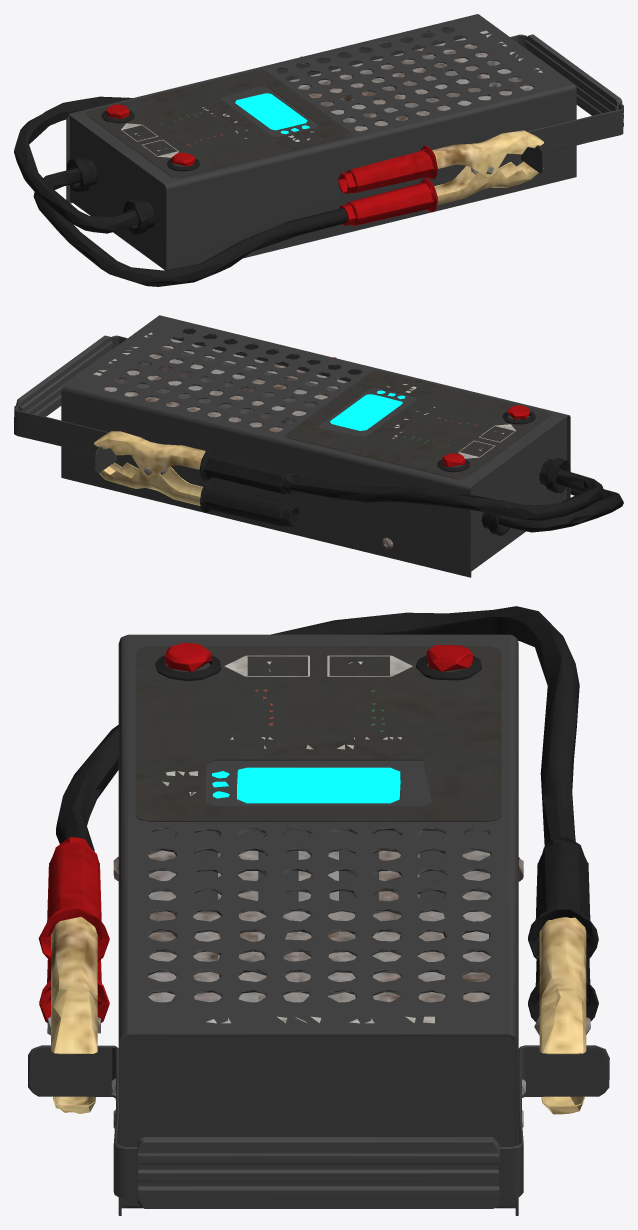
Rendered from craft_r17_charge_oracle.glb.
The picture shows the model from 3 angles, top to bottom: view 1: azimuth 30°, elevation 25°; view 2: azimuth 150°, elevation 25°; view 3: azimuth 270°, elevation 25°; orthographic projection. The views are drawn at different scales.
Parts seen in each view (by area): view 1: craft_r17_charge_oracle; view 2: craft_r17_charge_oracle; view 3: craft_r17_charge_oracle.
Boxes of the visible parts, x1,y1,x2,y2 form: craft_r17_charge_oracle: (14,14,623,286); craft_r17_charge_oracle: (14,315,623,577); craft_r17_charge_oracle: (28,606,609,1215).
Size of the model in its own units: 0.263 by 0.0469 by 0.1243.
12 materials, 8 textured.
